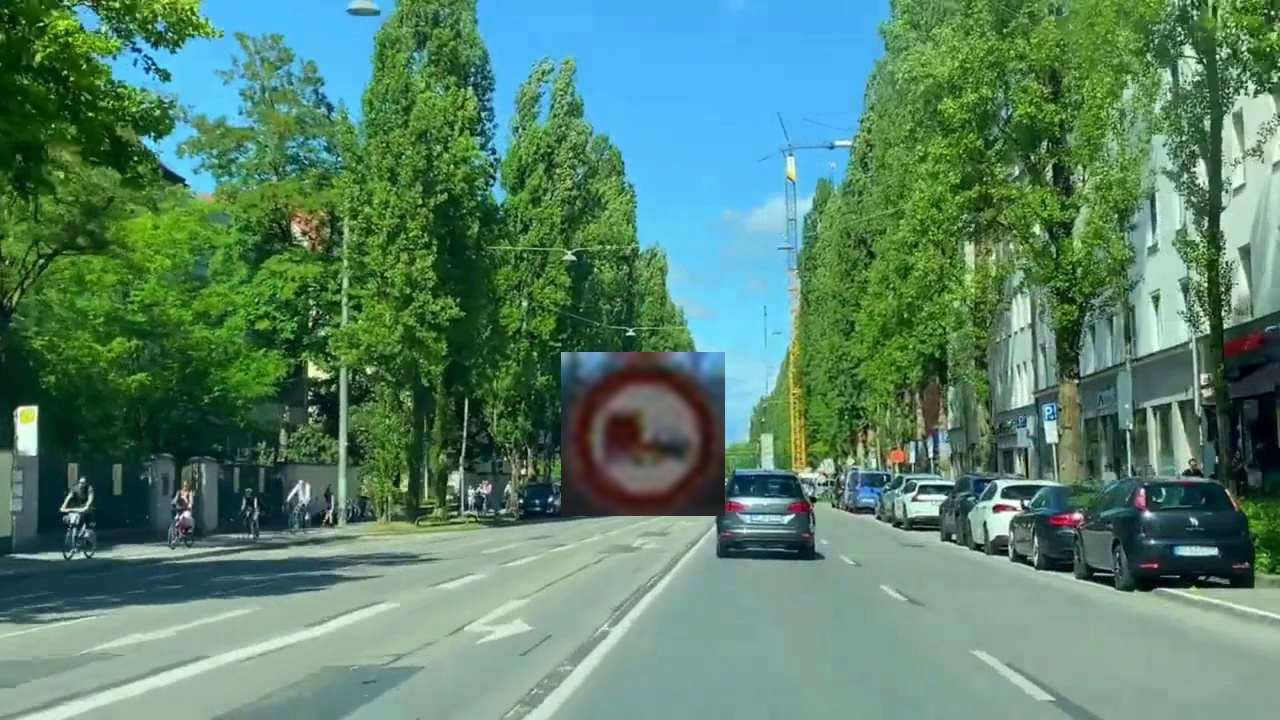No pass >3.5t: (561, 352, 725, 516)
